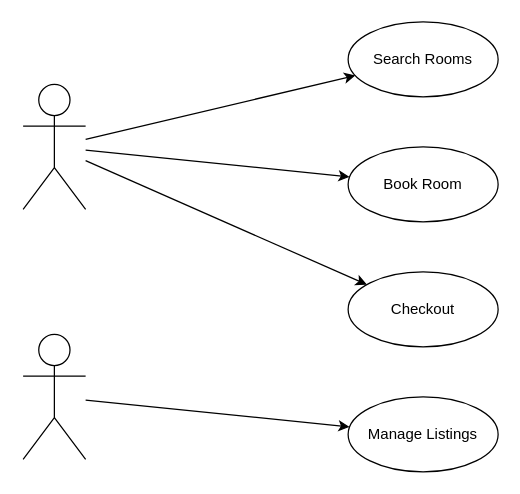
Image size: 520x494. Some labels were removed from this diagram. The shapes that lost their labels are listed below. From the top down, each one's box as (x1, y1, x2, y2) in pixels, then its label:
(22, 83, 86, 209): Customer
(22, 333, 86, 459): Admin
